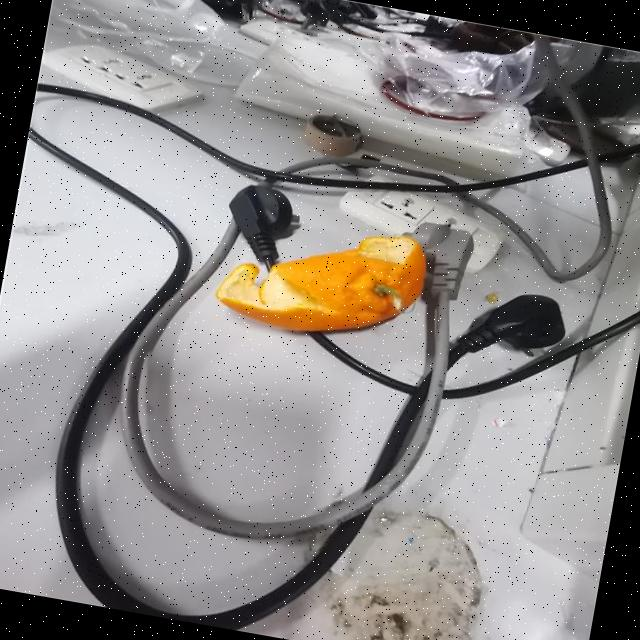orange-peel: (209, 202, 432, 352)
